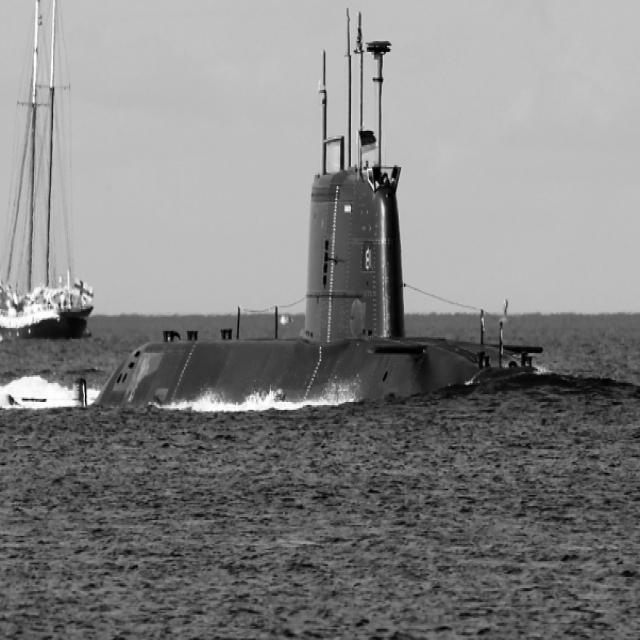submarine: (77, 7, 568, 411)
